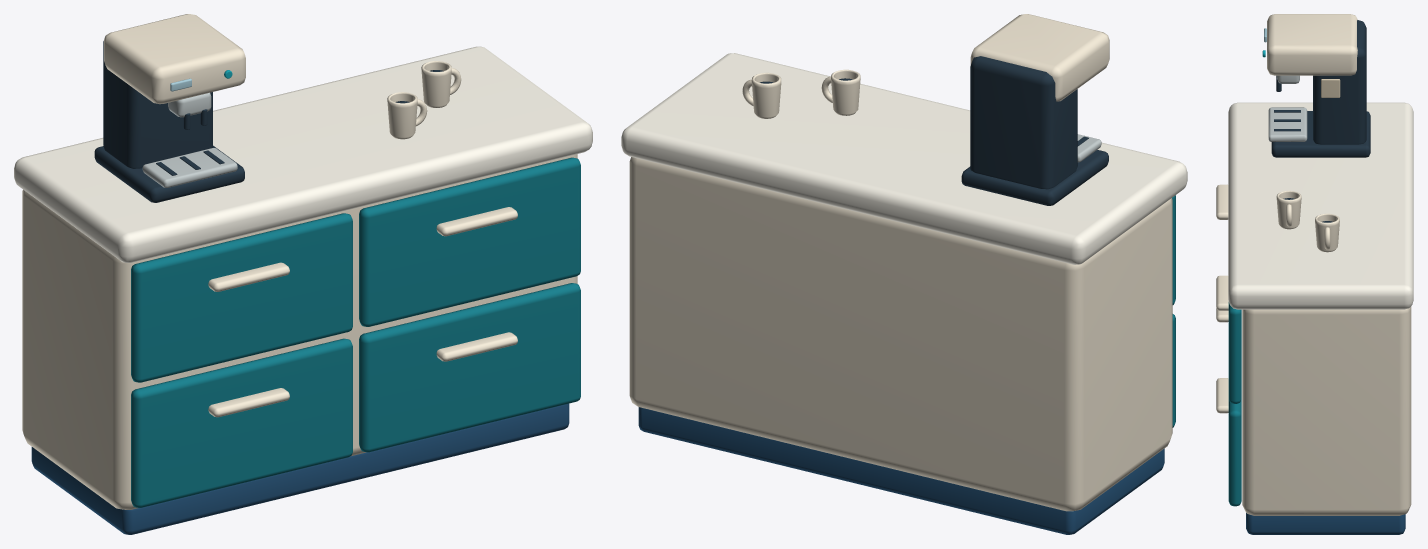
File: Lounge_Coffee_Counter.glb
3 renders of one model, left to right at view 1: azimuth 30°, elevation 25°; view 2: azimuth 150°, elevation 25°; view 3: azimuth 270°, elevation 25°, orthographic. The views are drawn at different scales.
Visible parts, largest first — view 1: Lounge_Coffee_Counter__Visual; view 2: Lounge_Coffee_Counter__Visual; view 3: Lounge_Coffee_Counter__Visual.
Part boxes in pixels (x1=…): Lounge_Coffee_Counter__Visual: x1=14, y1=14, x2=592, y2=534; Lounge_Coffee_Counter__Visual: x1=621, y1=14, x2=1187, y2=534; Lounge_Coffee_Counter__Visual: x1=1216, y1=14, x2=1413, y2=534.
Size of the model in its own units: 1.4 by 1.26 by 0.618.
1 material, 1 textured.
